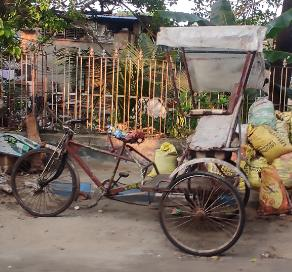Auto: (12, 22, 272, 257)
